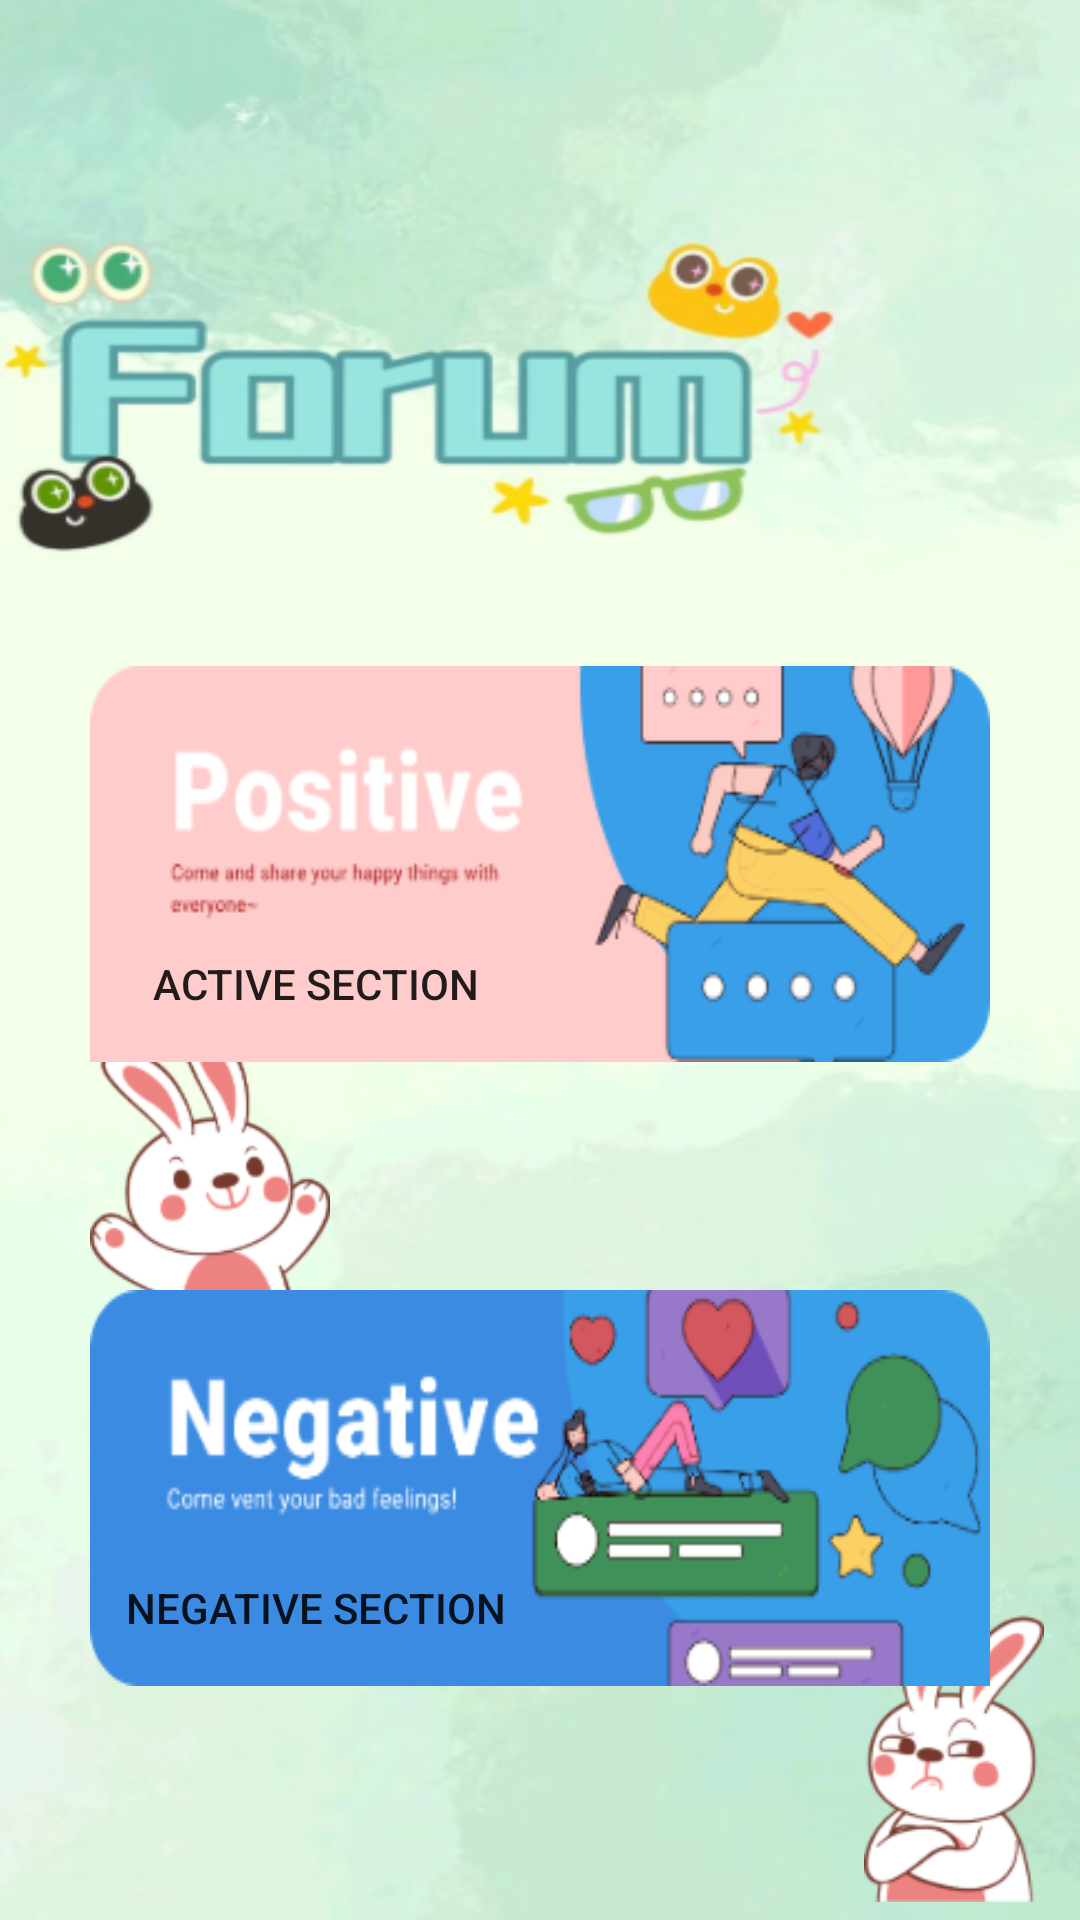

Screen size 1080 x 1920. Icon name, then its center in pixels as point (x, y):
emotion forum rabbit happy: point (210, 1176)
